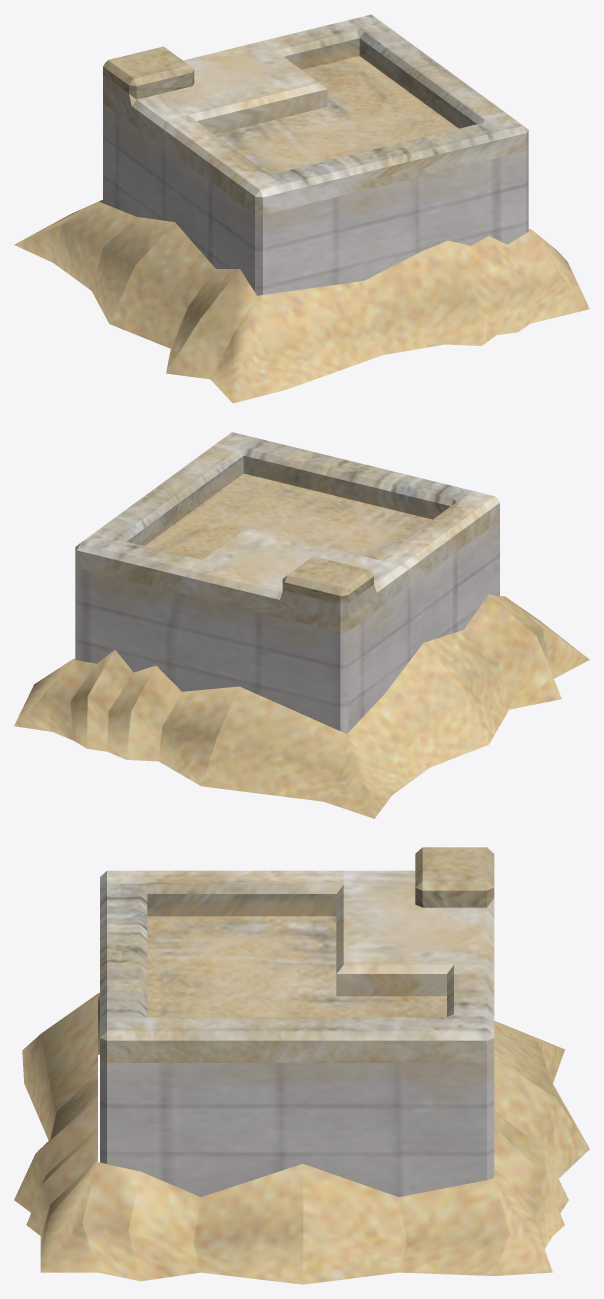
Rendered from TDHus3.fbx.
3 views of the same model, one above another, from view 1: azimuth 30°, elevation 25°; view 2: azimuth 150°, elevation 25°; view 3: azimuth 270°, elevation 25° (orthographic). The views are drawn at different scales.
Parts seen in each view (by area): view 1: TDHus_III; view 2: TDHus_III; view 3: TDHus_III.
Boxes of the visible parts, left/top/right/bottom form: TDHus_III: left=14, top=14, right=589, bottom=403; TDHus_III: left=14, top=432, right=589, bottom=818; TDHus_III: left=14, top=847, right=589, bottom=1284.
Bounding box in the file's own units: 49.97 × 22.76 × 49.42.
